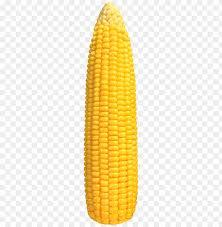non-mango: (83, 1, 138, 224)
